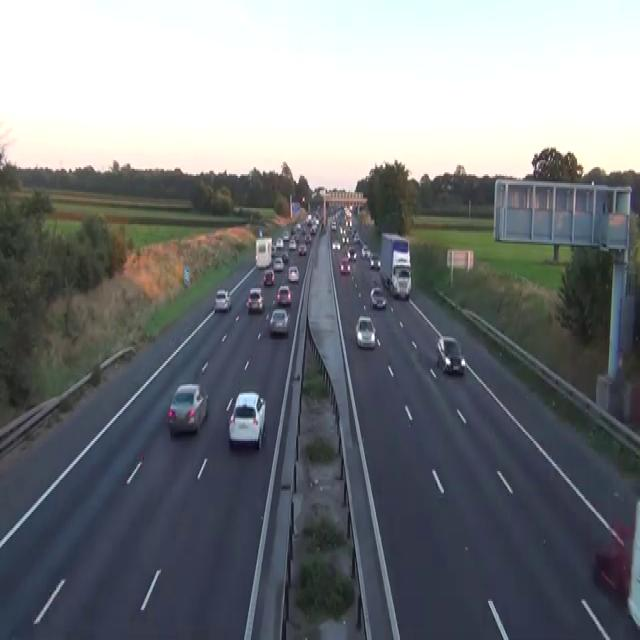Car: (593, 517, 633, 601), (226, 391, 266, 450), (167, 382, 208, 436), (436, 334, 465, 374), (355, 314, 376, 348), (390, 265, 411, 299), (269, 308, 289, 334), (246, 286, 263, 311), (214, 288, 231, 311), (276, 284, 292, 306), (370, 286, 386, 308), (287, 265, 299, 283), (263, 268, 275, 286), (372, 295, 386, 308), (339, 258, 350, 274), (273, 256, 284, 272), (370, 252, 380, 268), (347, 246, 357, 262), (361, 244, 370, 258), (288, 238, 296, 249), (282, 251, 289, 263), (298, 244, 306, 254), (275, 237, 283, 247), (306, 213, 312, 226), (282, 229, 289, 240), (353, 231, 360, 242), (270, 244, 276, 256), (332, 240, 340, 249), (233, 204, 241, 213), (304, 233, 311, 242), (330, 220, 336, 230), (310, 226, 316, 234), (258, 228, 262, 236)
Truck: (379, 231, 411, 299), (255, 236, 272, 268)
